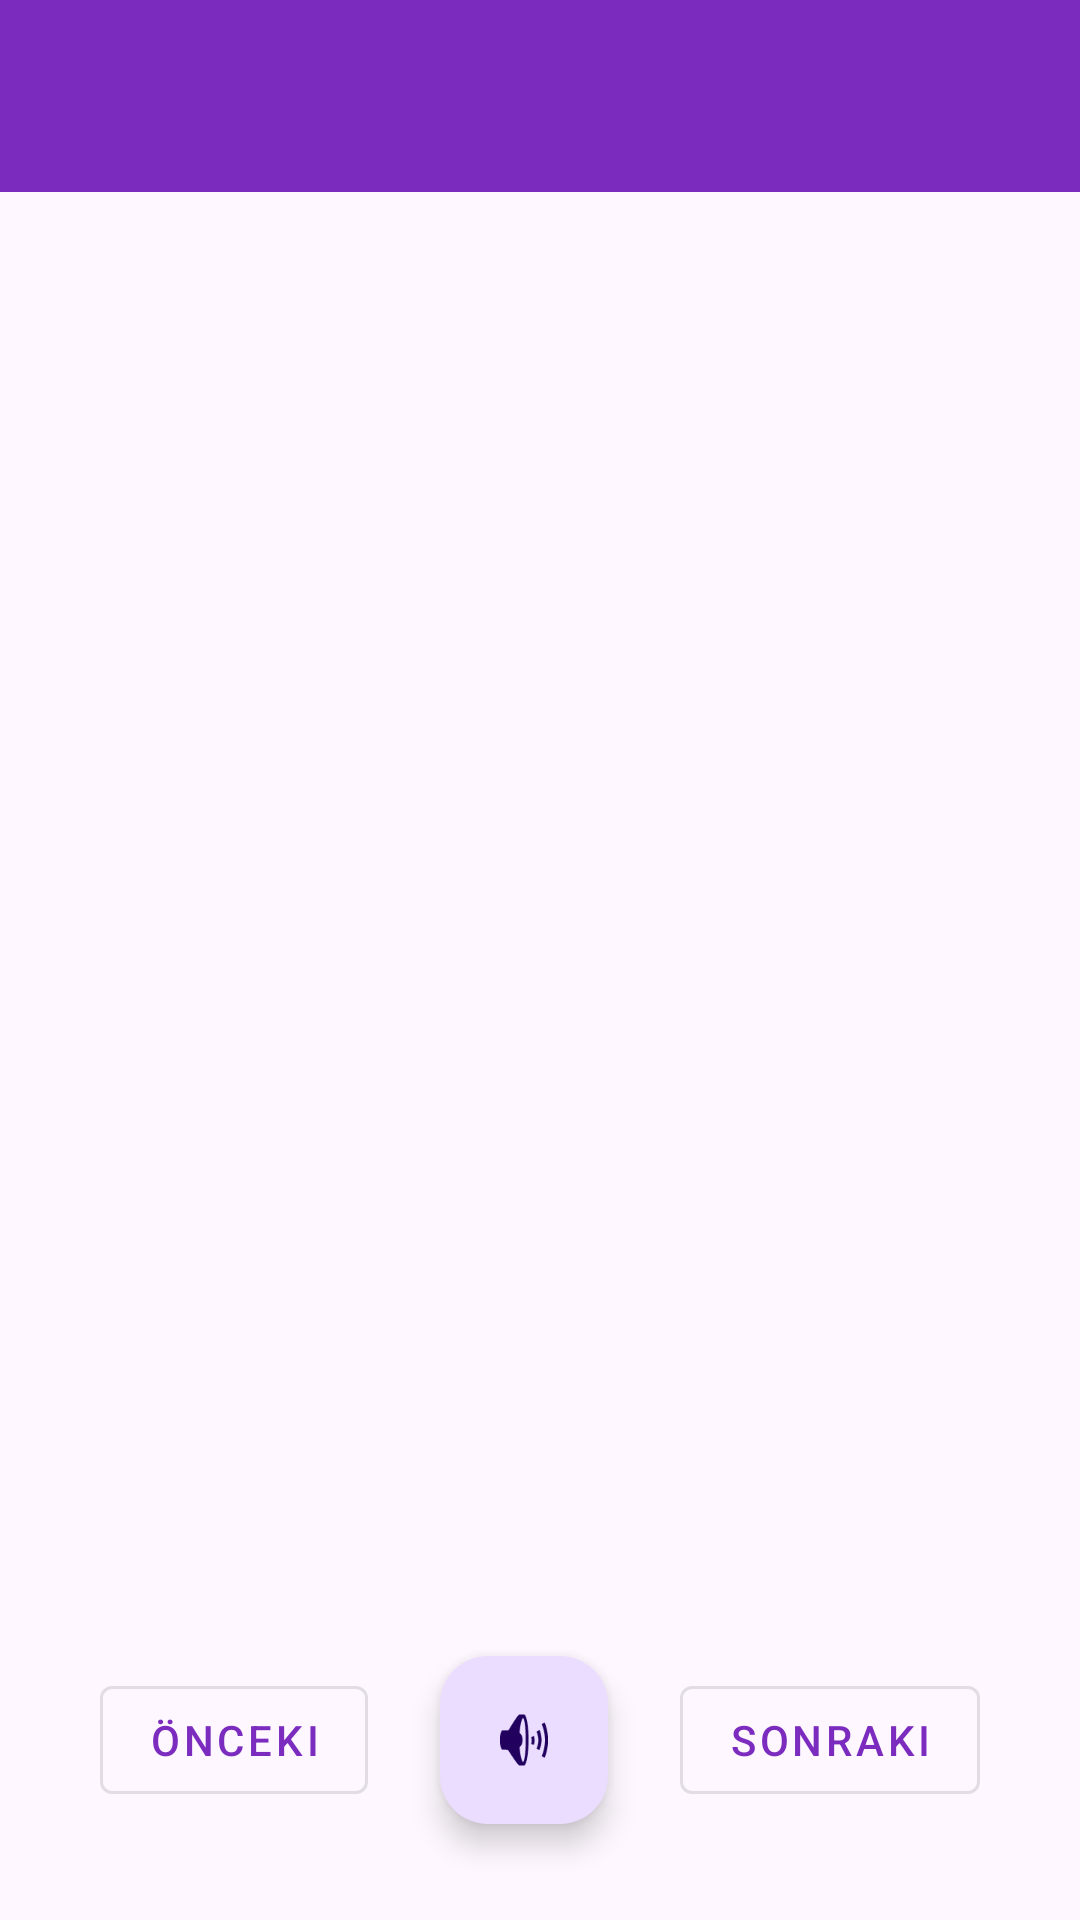

Icon click points for this 1080px x 1920px phone screenshot, format (x=x, y=y):
Rengi söyle: (x=524, y=1740)
